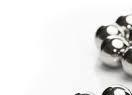ironball: (99, 33, 127, 65), (94, 20, 124, 46), (112, 11, 132, 41), (102, 82, 131, 94), (122, 46, 131, 75), (64, 88, 104, 94)
